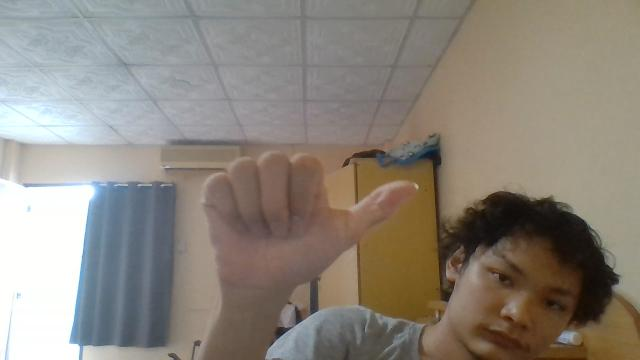left: (201, 150, 419, 310)
